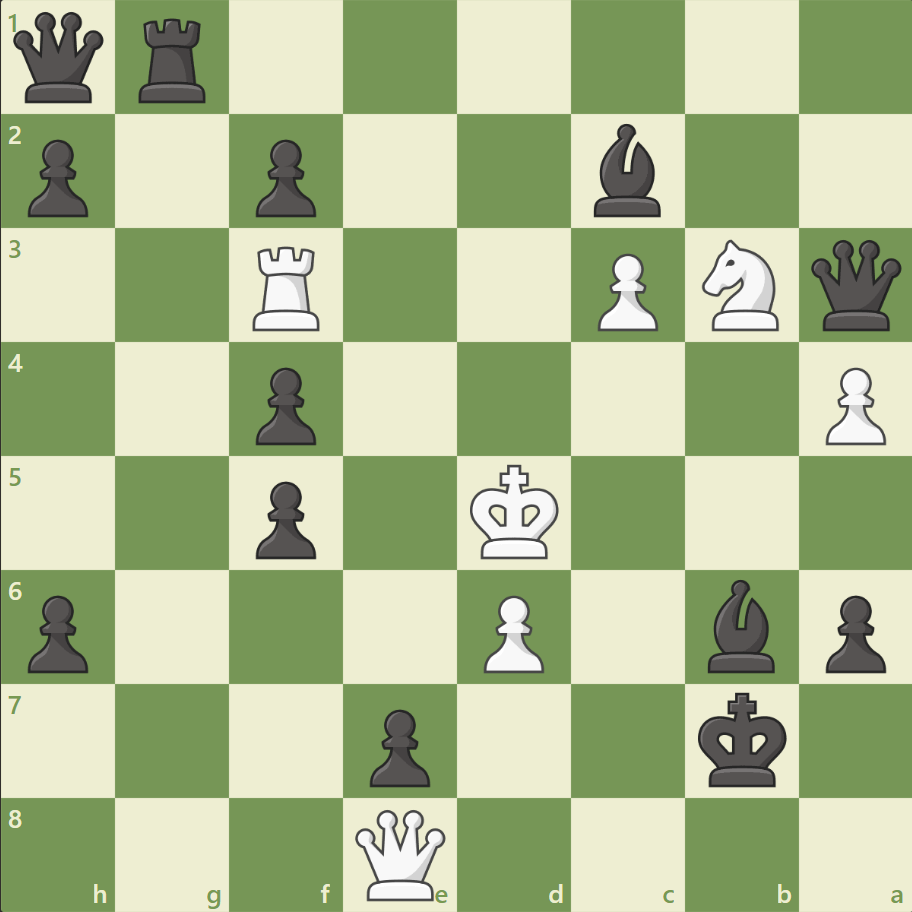K: (465, 458, 565, 566)
N: (692, 234, 789, 337)
P: (474, 586, 549, 677), (815, 359, 889, 450), (588, 246, 662, 337)
Q: (351, 804, 450, 903)
R: (246, 239, 329, 336)
b: (698, 574, 782, 676), (585, 120, 669, 222)
k: (692, 685, 792, 793)
p: (20, 586, 95, 677), (247, 473, 322, 564), (247, 359, 322, 450), (247, 132, 322, 223), (20, 132, 95, 223), (361, 700, 435, 791), (815, 586, 889, 677)
q: (805, 236, 904, 335), (10, 9, 109, 108)
r: (133, 12, 215, 109)
